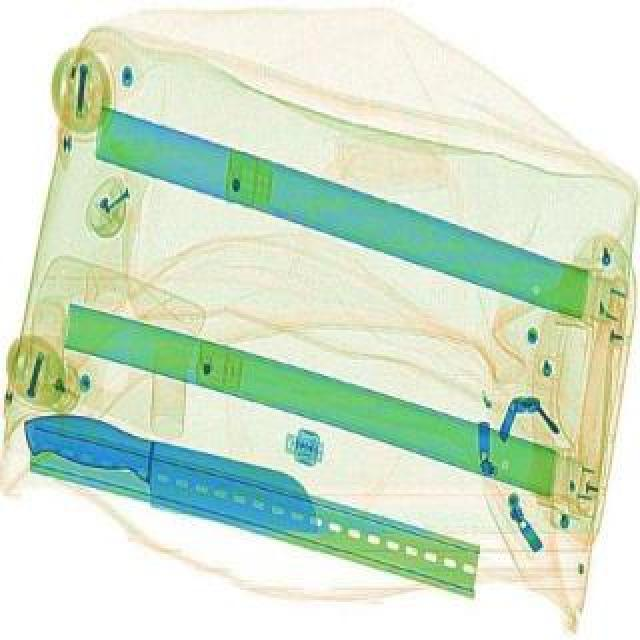knife: (10, 400, 336, 546)
